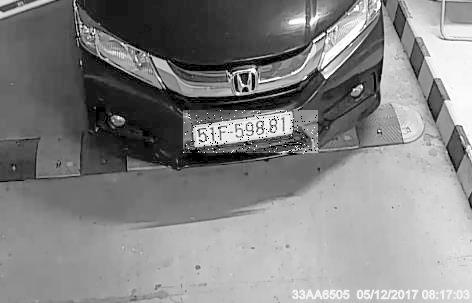License-plate: (185, 112, 321, 156)
